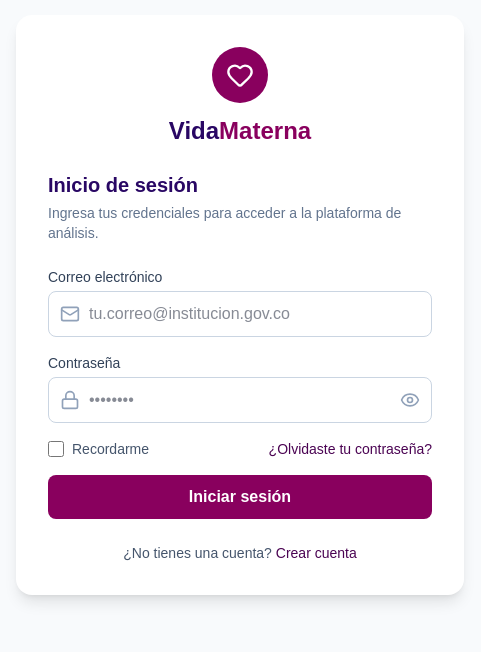
Test: Login › muestra el error del servidor cuando las credenciales son incorrectas
Type "ana@test.com" into the field labelled "Correo electrónico" at (240, 314), box [48,291,432,337]
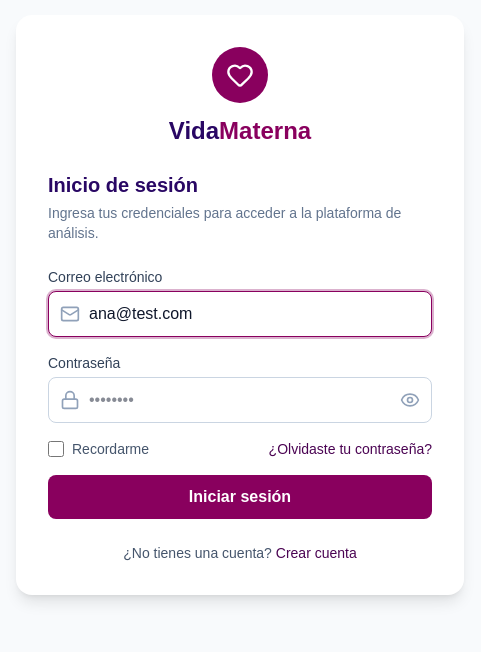
Type "secreto1" into the password field labelled "Contraseña" at (240, 400), box [48,377,432,423]
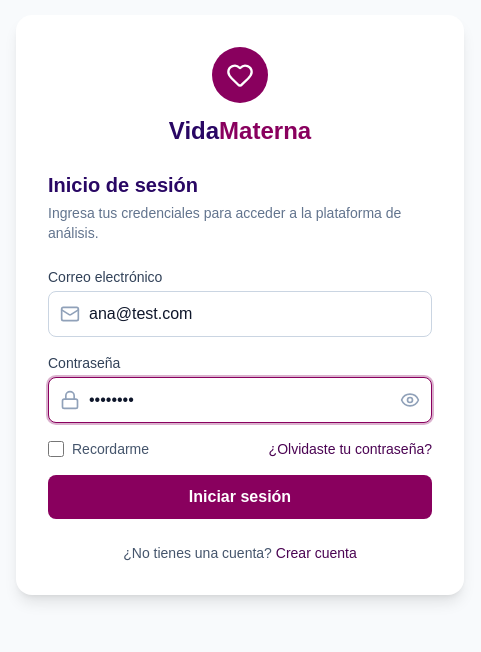
Click the button "Iniciar sesión" at (240, 497), box [48,475,432,519]
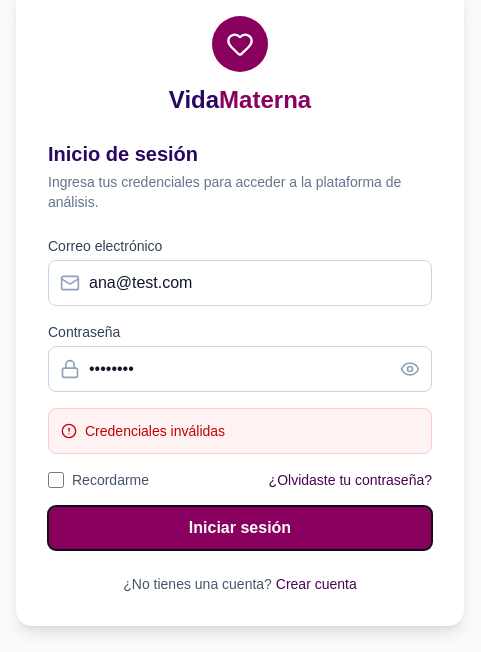
expect the message reads "Credenciales inválidas": met, box [85,423,225,439]
